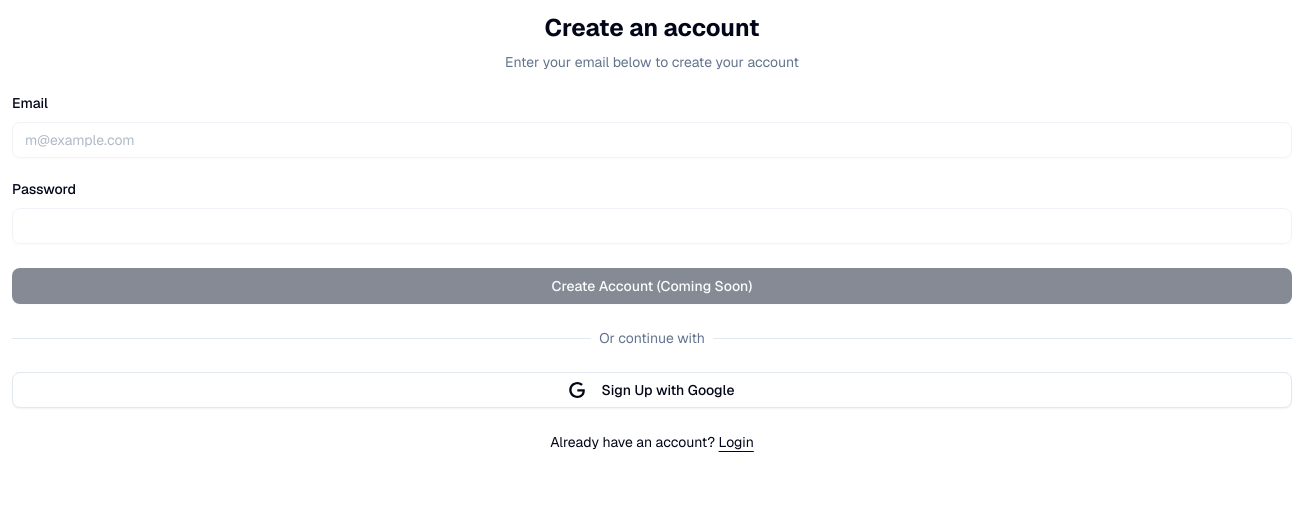
Test case: RegisterForm › shows error if registration with Google fails
Step 1. Click the button "Sign Up with Google" → (652, 390), box [12, 372, 1292, 408]
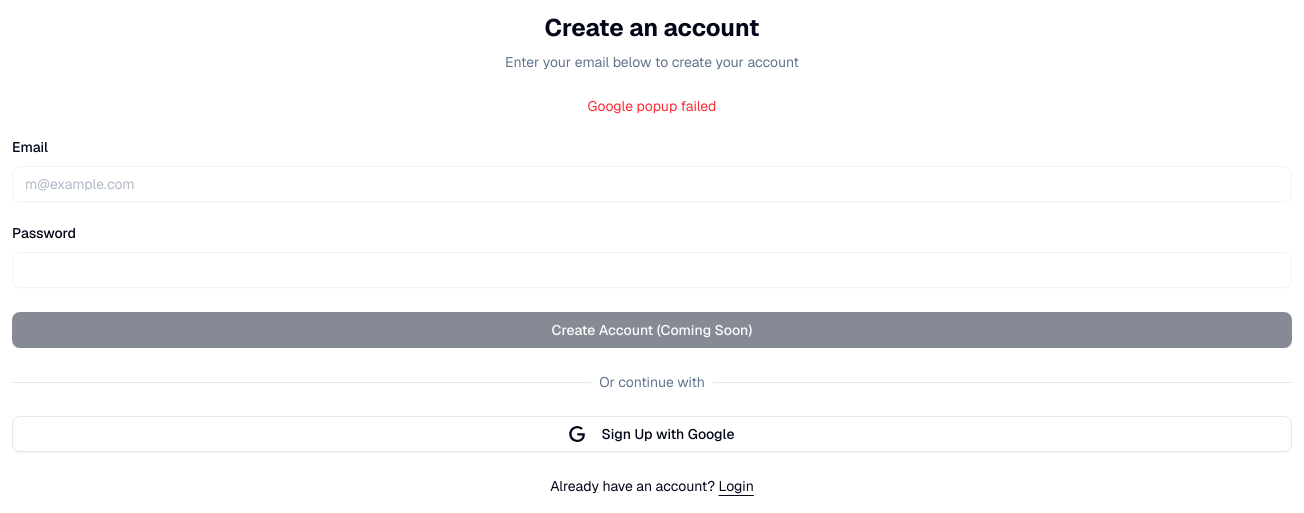
Check: the text "Google popup failed" is shown, box [588, 97, 716, 115]
